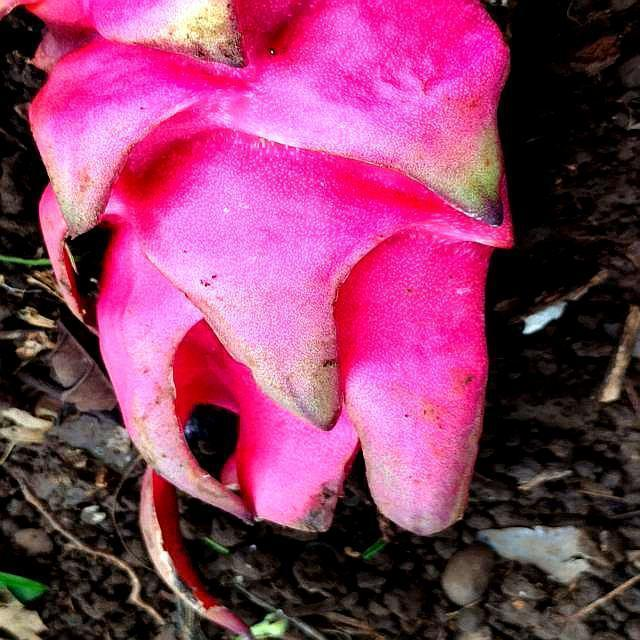Biodegradable: (7, 1, 521, 545)
